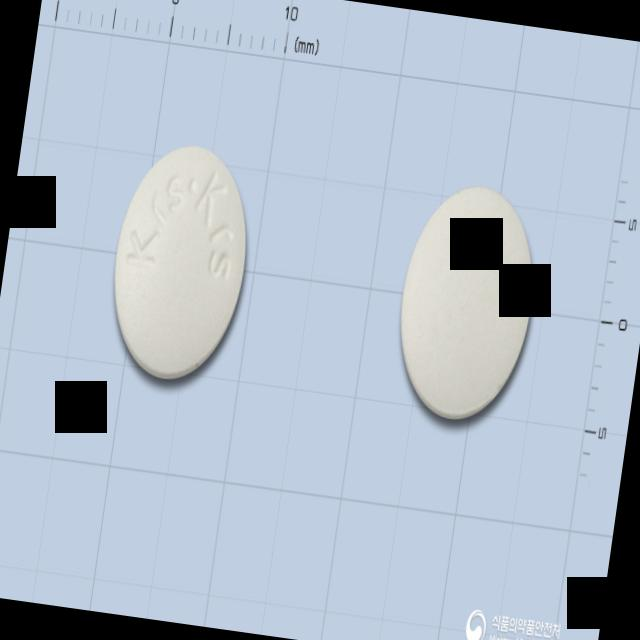Korus Ascorbic Acid: (99, 136, 262, 390)
